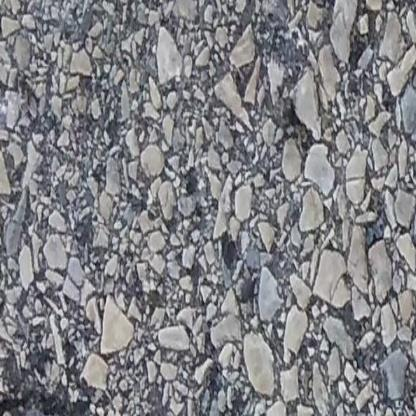Cracks: (0, 385, 106, 416)
